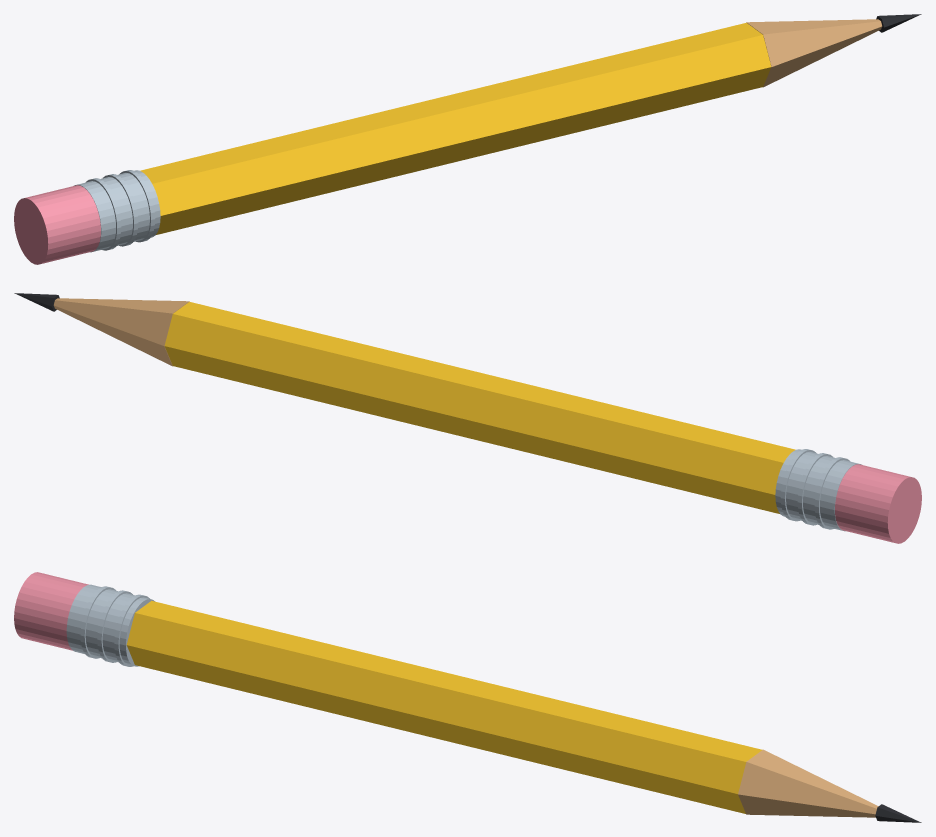
The model's file is pencil.glb.
3 renders of one model, top to bottom at view 1: azimuth 30°, elevation 25°; view 2: azimuth 150°, elevation 25°; view 3: azimuth 330°, elevation 25°, orthographic.
Visible parts, largest first — view 1: Pencil - six sided painted shaft, Pencil - pink eraser, Pencil - sharpened cedar, Pencil - silver ferrule; view 2: Pencil - six sided painted shaft, Pencil - pink eraser, Pencil - sharpened cedar, Pencil - silver ferrule; view 3: Pencil - six sided painted shaft, Pencil - sharpened cedar, Pencil - pink eraser, Pencil - silver ferrule.
Boxes of the visible parts, <box> form: Pencil - six sided painted shaft: <box>140,22,771,234</box>; Pencil - pink eraser: <box>14,185,100,264</box>; Pencil - sharpened cedar: <box>746,19,882,87</box>; Pencil - silver ferrule: <box>74,170,160,252</box>; Pencil - six sided painted shaft: <box>164,301,795,513</box>; Pencil - pink eraser: <box>835,464,921,543</box>; Pencil - sharpened cedar: <box>53,298,189,366</box>; Pencil - silver ferrule: <box>775,449,861,531</box>; Pencil - six sided painted shaft: <box>126,600,762,813</box>; Pencil - sharpened cedar: <box>738,749,878,817</box>; Pencil - pink eraser: <box>14,572,88,650</box>; Pencil - silver ferrule: <box>66,584,154,666</box>.
Size of the model in its own units: 2.11 by 0.15 by 0.15.
